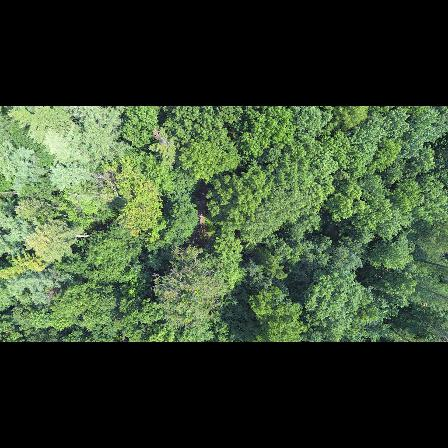Dead: (84, 168, 129, 203)
